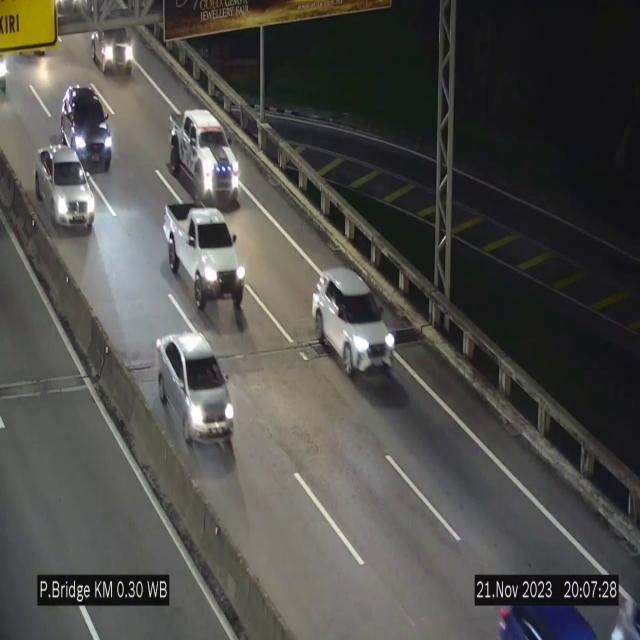Car: (153, 330, 237, 446), (166, 197, 248, 315), (312, 269, 396, 377), (168, 102, 246, 212), (60, 82, 116, 186), (35, 142, 95, 231), (89, 17, 141, 80)
